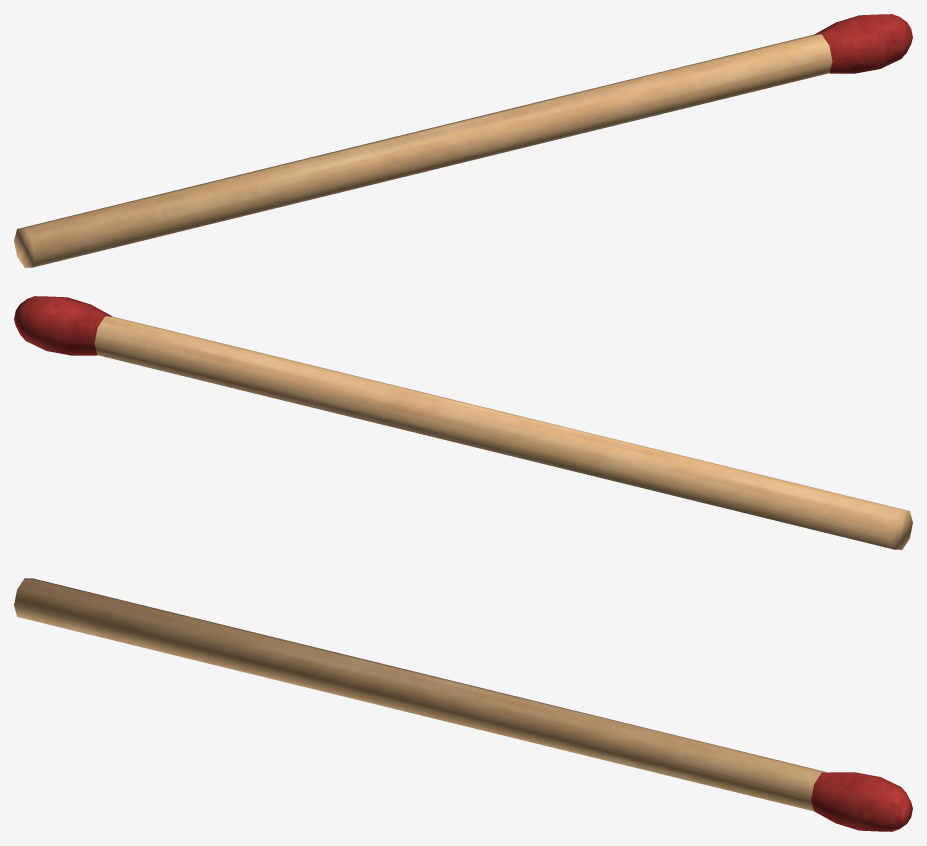
The model's file is marches.fbx.
3 views of the same model, one above another, from view 1: azimuth 30°, elevation 25°; view 2: azimuth 150°, elevation 25°; view 3: azimuth 330°, elevation 25° (orthographic).
Visible parts, largest first — view 1: matches_piece; view 2: matches_piece; view 3: matches_piece.
Part boxes in pixels (left/top/right/bottom): matches_piece: left=14, top=14, right=912, bottom=267; matches_piece: left=14, top=296, right=912, bottom=549; matches_piece: left=14, top=578, right=912, bottom=831.
Bounding box in the file's own units: 31.52 × 1.84 × 1.84.
